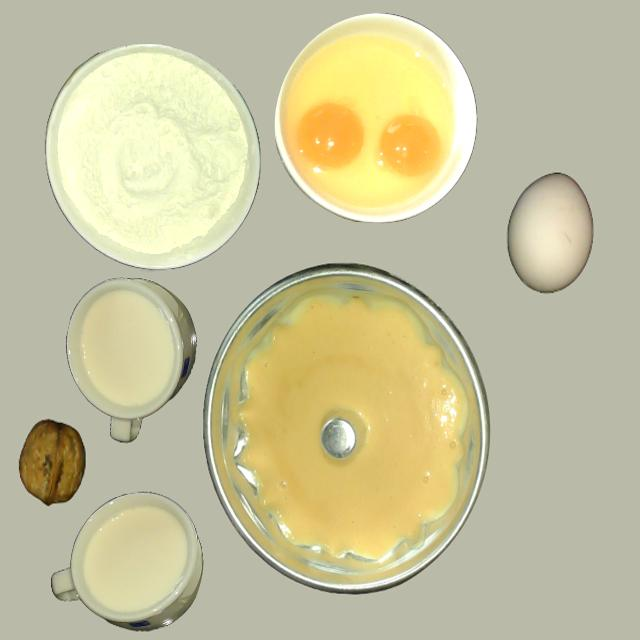Egg: (297, 102, 366, 171), (379, 114, 441, 177)
Flour: (44, 44, 256, 269)
Milk: (76, 289, 178, 412), (80, 503, 191, 614)
Walnut: (18, 420, 85, 506)
